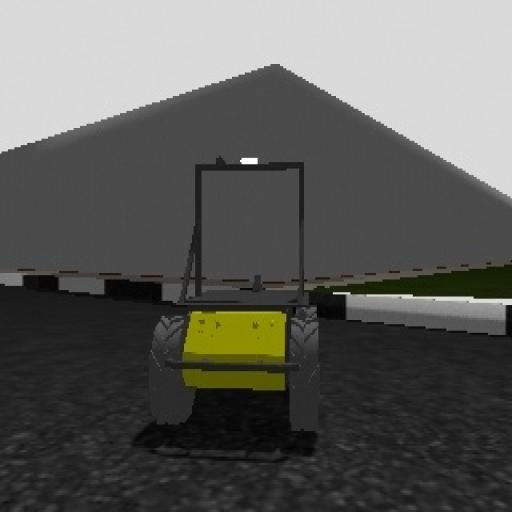huskya200: (152, 129, 326, 449)
